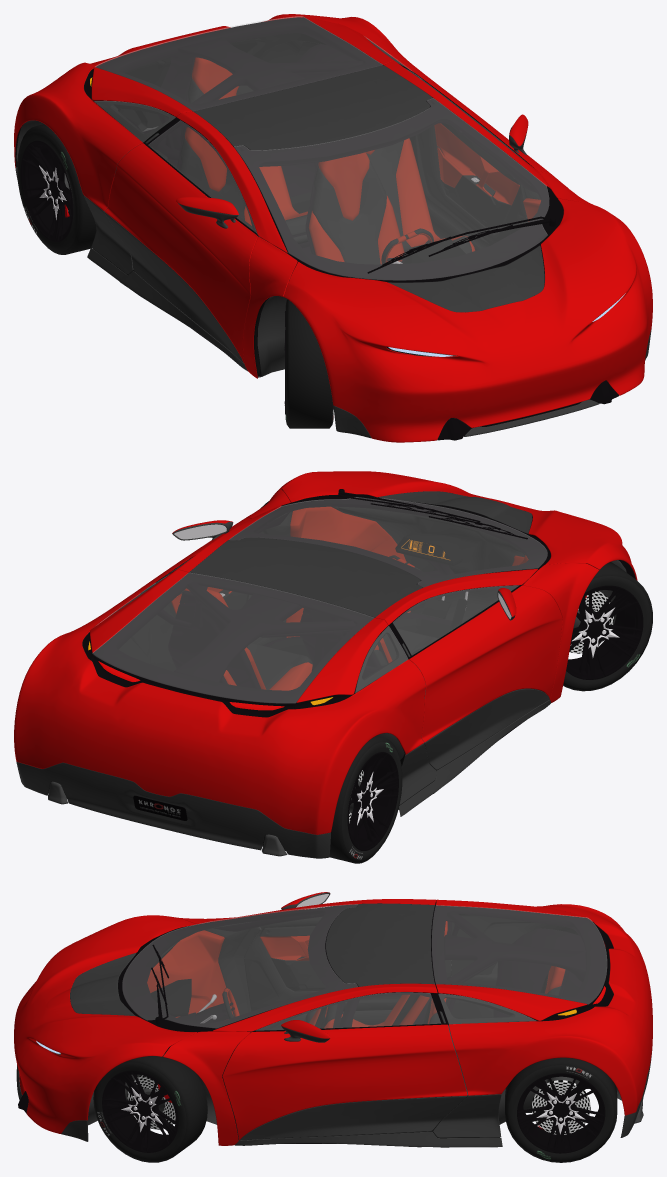
File: CarConcept.glb
3 renders of one model, top to bottom at view 1: azimuth 30°, elevation 25°; view 2: azimuth 150°, elevation 25°; view 3: azimuth 270°, elevation 25°, orthographic. The views are drawn at different scales.
Bounding box in the file's own units: 2.54 × 1.15 × 4.36.
23 materials, 6 textured.
